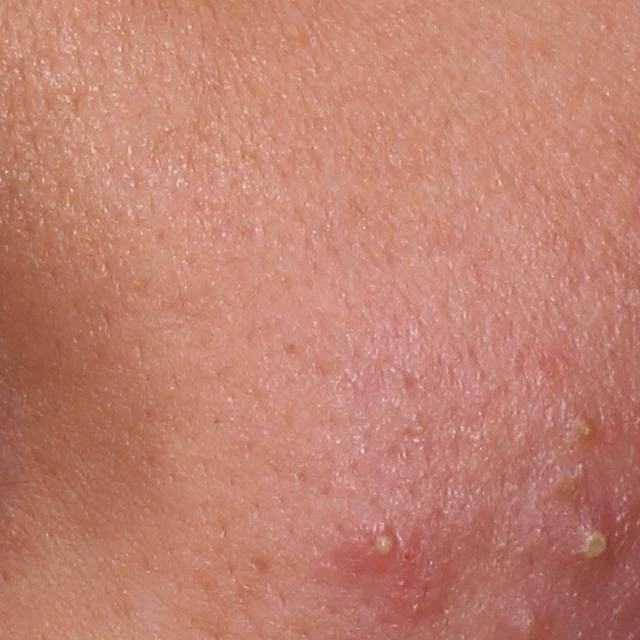pustule: (317, 502, 401, 579), (570, 513, 625, 574)
